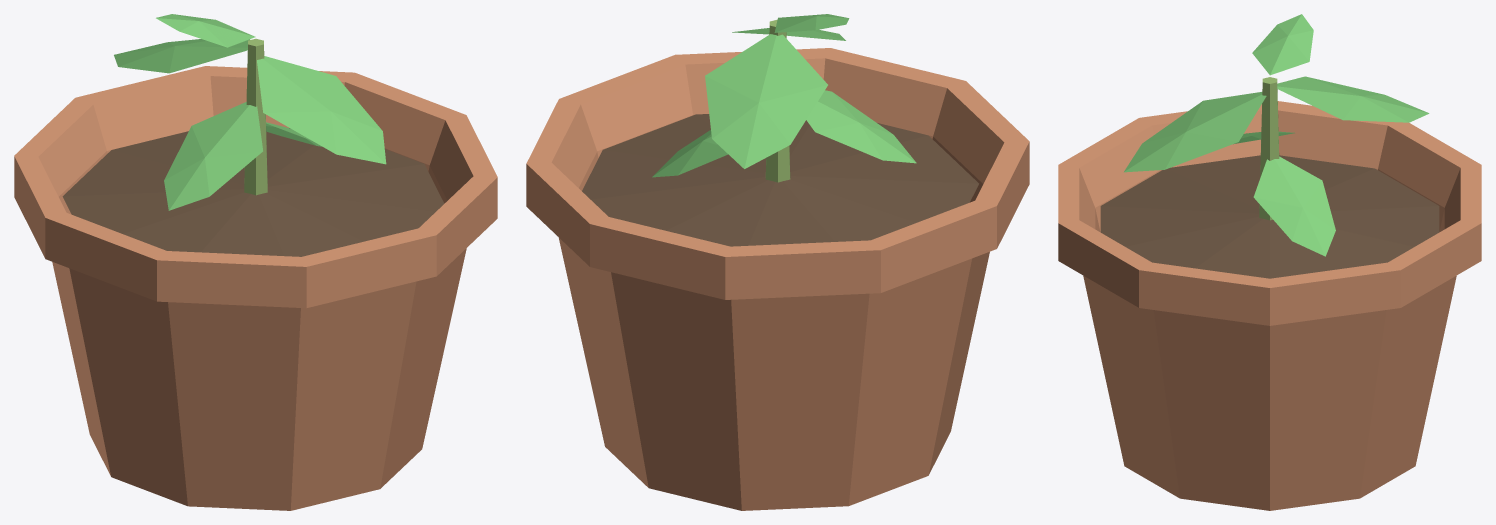
File: sprout.glb
3 views of the same model, side by side, from view 1: azimuth 30°, elevation 25°; view 2: azimuth 150°, elevation 25°; view 3: azimuth 270°, elevation 25° (orthographic). The views are drawn at different scales.
Visible parts, largest first — view 1: GardenPot, Soil, Leaf_B, Leaf_C, Leaf_A, SproutStem, Leaf_E; view 2: GardenPot, Soil, Leaf_A, Leaf_C, Leaf_D, Leaf_E, SproutStem, Leaf_B; view 3: GardenPot, Soil, Leaf_B, Leaf_D, Leaf_A, Leaf_E, SproutStem.
Boxes of the visible parts, x1=… form: GardenPot: x1=14, y1=66, x2=497, y2=510; Soil: x1=62, y1=128, x2=444, y2=256; Leaf_B: x1=257, y1=56, x2=386, y2=164; Leaf_C: x1=164, y1=102, x2=262, y2=210; Leaf_A: x1=114, y1=39, x2=249, y2=73; SproutStem: x1=244, y1=38, x2=267, y2=195; Leaf_E: x1=156, y1=14, x2=255, y2=47; GardenPot: x1=526, y1=48, x2=1029, y2=510; Soil: x1=582, y1=114, x2=978, y2=246; Leaf_A: x1=705, y1=34, x2=827, y2=168; Leaf_C: x1=806, y1=90, x2=916, y2=163; Leaf_D: x1=652, y1=130, x2=728, y2=177; Leaf_E: x1=774, y1=14, x2=849, y2=32; SproutStem: x1=765, y1=19, x2=790, y2=182; Leaf_B: x1=732, y1=28, x2=845, y2=40; GardenPot: x1=1058, y1=101, x2=1481, y2=510; Soil: x1=1100, y1=155, x2=1439, y2=278; Leaf_B: x1=1124, y1=92, x2=1266, y2=172; Leaf_D: x1=1253, y1=156, x2=1335, y2=256; Leaf_A: x1=1277, y1=76, x2=1429, y2=122; Leaf_E: x1=1252, y1=14, x2=1313, y2=75; SproutStem: x1=1259, y1=77, x2=1279, y2=220.
Bounding box in the file's own units: 1.6 × 1.57 × 1.52.
